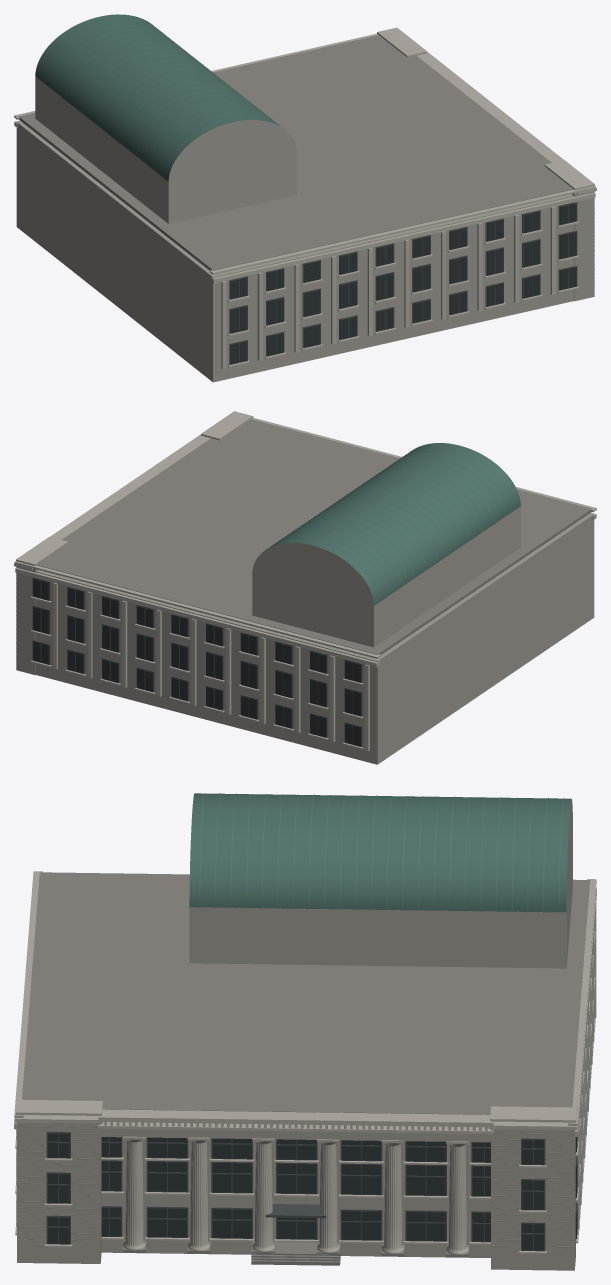
File: kobe-city-museum.glb
3 views of the same model, one above another, from view 1: azimuth 30°, elevation 25°; view 2: azimuth 150°, elevation 25°; view 3: azimuth 270°, elevation 25° (orthographic). The views are drawn at different scales.
Bounding box in the file's own units: 55.59 × 27.11 × 54.08.
